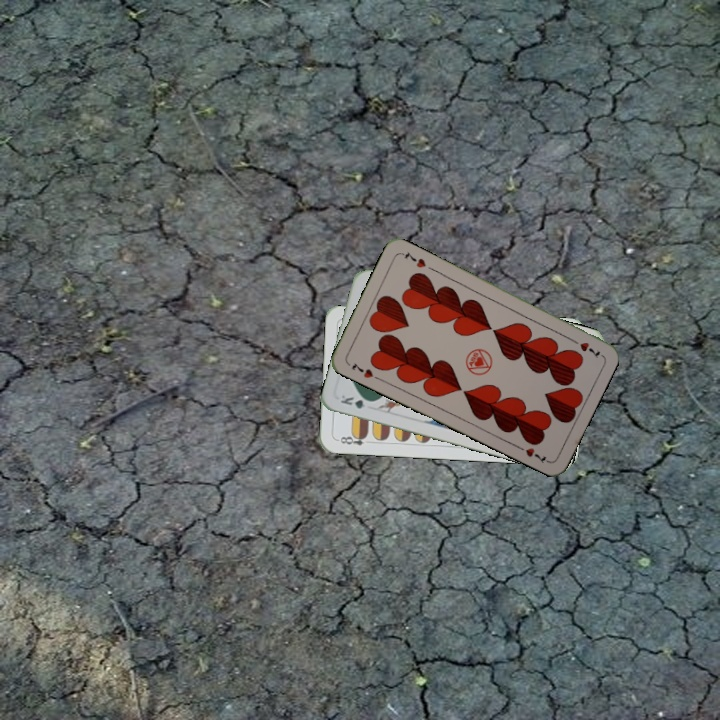E8: (333, 430, 374, 448)
GK: (336, 391, 376, 412)
H7: (566, 335, 603, 359), (347, 358, 382, 383)
